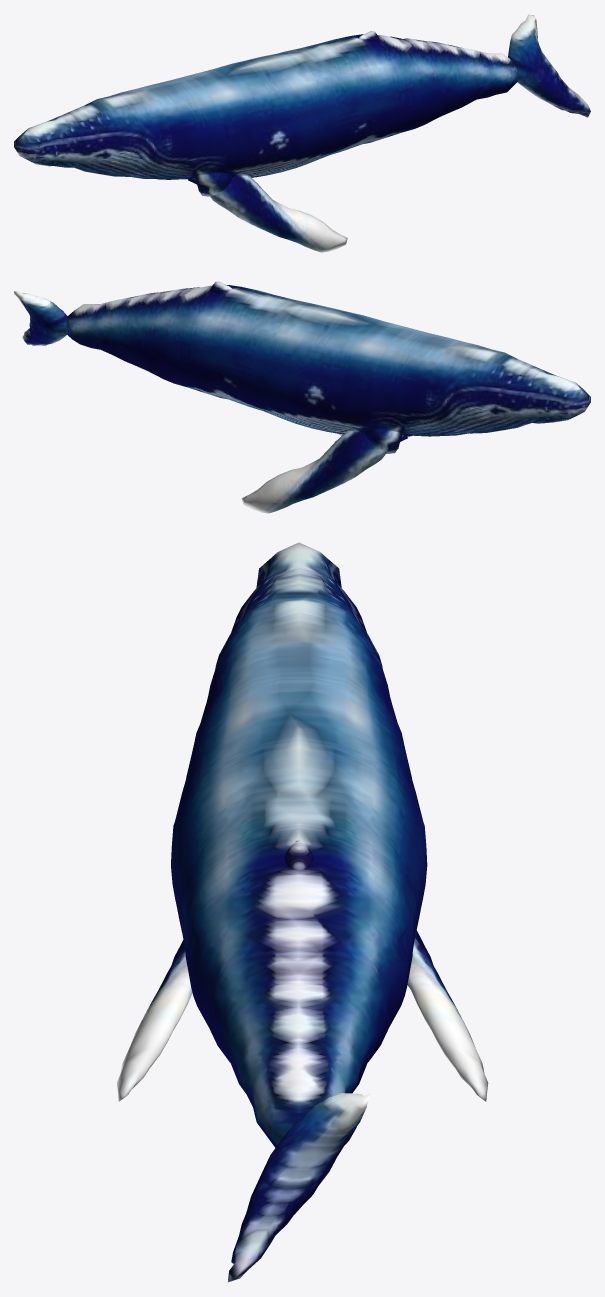
The model's file is asset.gltf.
The picture shows the model from 3 angles, top to bottom: view 1: azimuth 30°, elevation 25°; view 2: azimuth 150°, elevation 25°; view 3: azimuth 270°, elevation 25°; orthographic projection. The views are drawn at different scales.
Parts seen in each view (by area): view 1: Object_2; view 2: Object_2; view 3: Object_2.
Part boxes in pixels (x1=…): Object_2: x1=14, y1=14, x2=590, y2=252; Object_2: x1=14, y1=281, x2=590, y2=513; Object_2: x1=116, y1=542, x2=488, y2=1282.
Bounding box in the file's own units: 39.82 × 11.25 × 11.42.
Materials: 1 (1 with a texture image).
